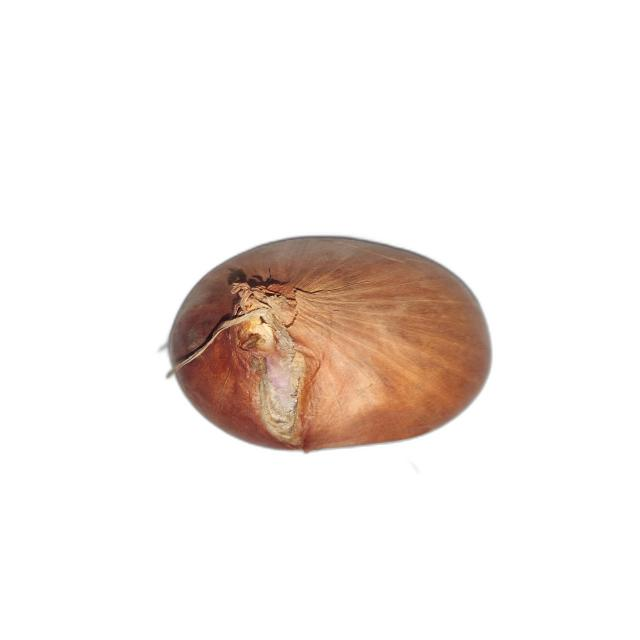onion: (165, 234, 493, 454)
